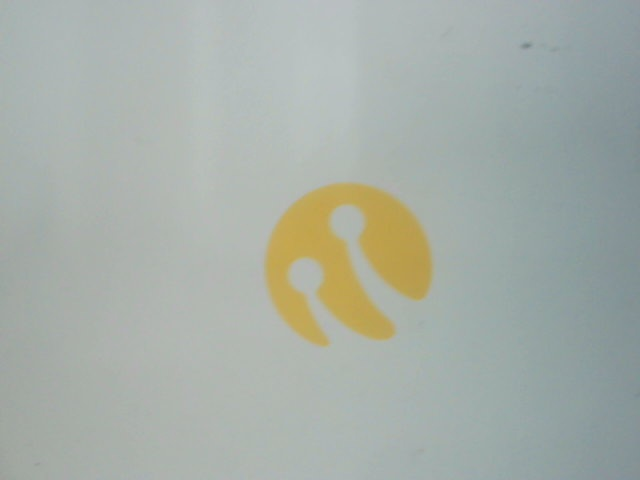AV_H3600Yellow: (233, 180, 459, 346)
